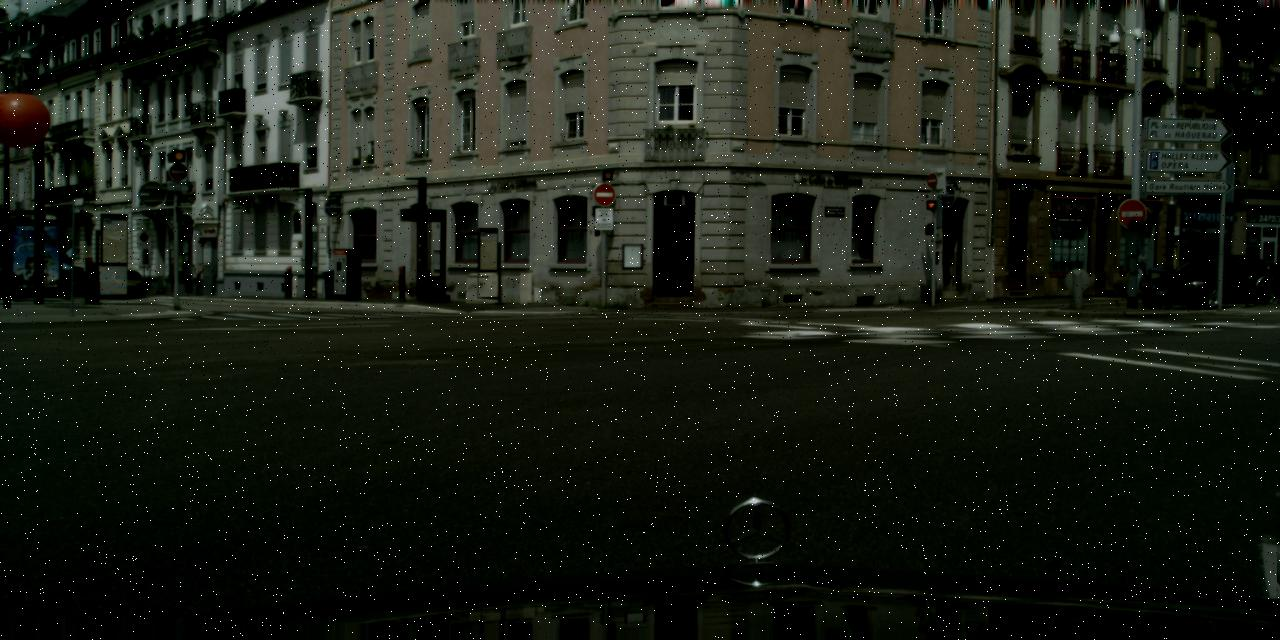ped: (55, 240, 80, 300), (1128, 250, 1148, 298)
